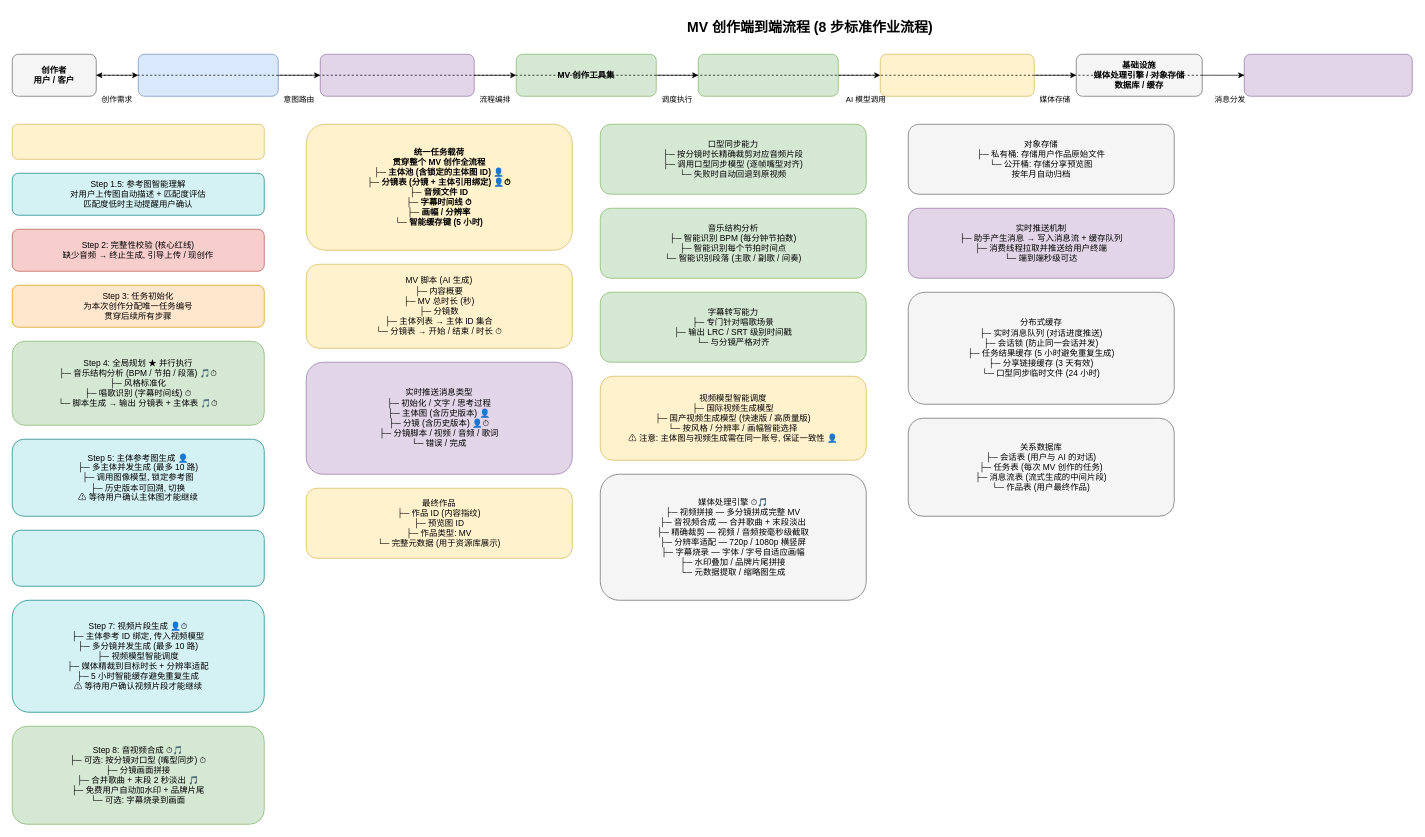
This 1425x837 diagram has some shape labels left out. Each missing label, with the box of its shape:
AI 创作助手 意图理解 + 流程编排 加载 MV 创作剧本: (320, 54, 474, 96)
Step 1: 创意理解 提取音频 / 风格 / 画幅 / 歌词 / 参考图: (12, 124, 264, 159)
Step 6: 分镜脚本确认 👤⏱ ├─ 将主体融入分镜 ├─ 推送到前端分镜展示 ⚠ 等待用户确认分镜才能继续: (12, 530, 264, 586)
作品生成与合成服务: (698, 54, 838, 96)
多模型适配层 图像 / 视频 / 音乐 / 口型 / 节拍分析: (880, 54, 1034, 96)
实时推送通道 进度 / 主体 / 视频 / 文字: (1244, 54, 1412, 96)
对话编排 实时流式会话 进度实时同步: (138, 54, 278, 96)
